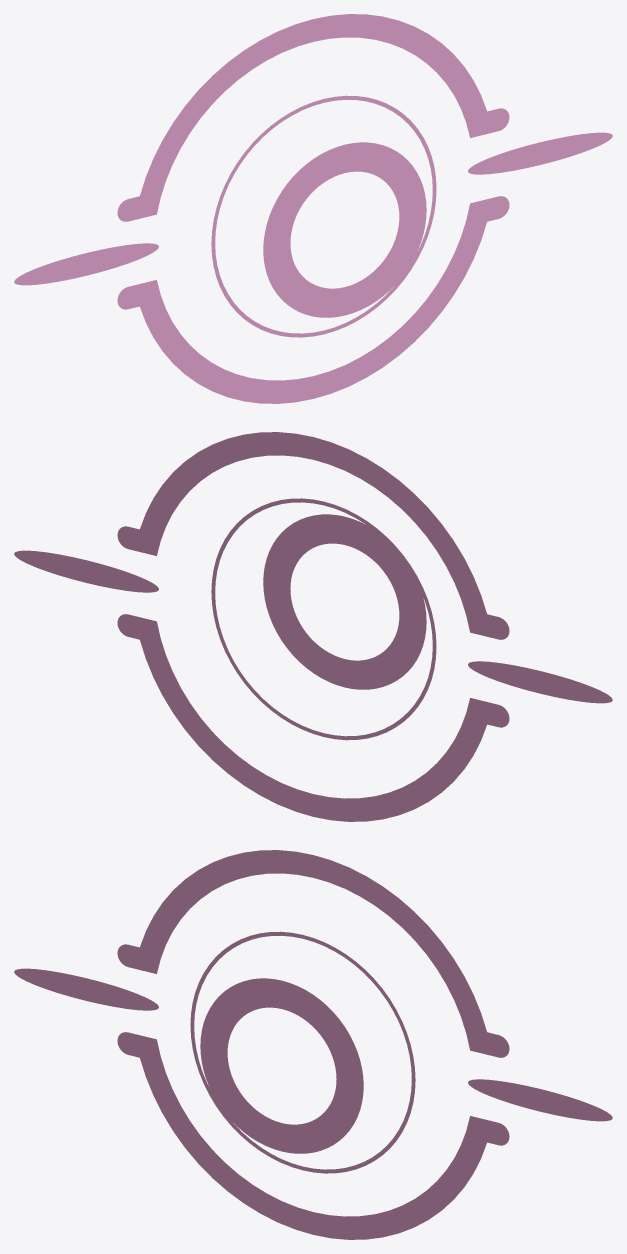
File: ホシノ.obj
3 views of the same model, one above another, from view 1: azimuth 30°, elevation 25°; view 2: azimuth 150°, elevation 25°; view 3: azimuth 330°, elevation 25° (orthographic).
Parts seen in each view (by area): view 1: 大, 小, 羽, 中; view 2: 大, 小, 羽, 中; view 3: 大, 小, 羽, 中.
Boxes of the visible parts, x1=… form: 大: x1=117, y1=14, x2=509, y2=403; 小: x1=263, y1=142, x2=426, y2=317; 羽: x1=14, y1=132, x2=612, y2=285; 中: x1=211, y1=95, x2=436, y2=337; 大: x1=117, y1=432, x2=509, y2=821; 小: x1=263, y1=514, x2=426, y2=689; 羽: x1=14, y1=550, x2=612, y2=703; 中: x1=211, y1=498, x2=436, y2=740; 大: x1=117, y1=850, x2=509, y2=1239; 小: x1=200, y1=978, x2=363, y2=1153; 羽: x1=14, y1=968, x2=612, y2=1121; 中: x1=190, y1=931, x2=415, y2=1173.
Bounding box in the file's own units: 1.98 × 1.2 × 0.1801.
